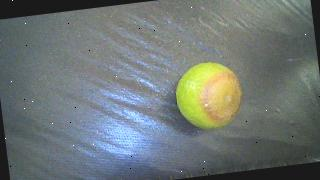DESECHO: (172, 59, 245, 133)
